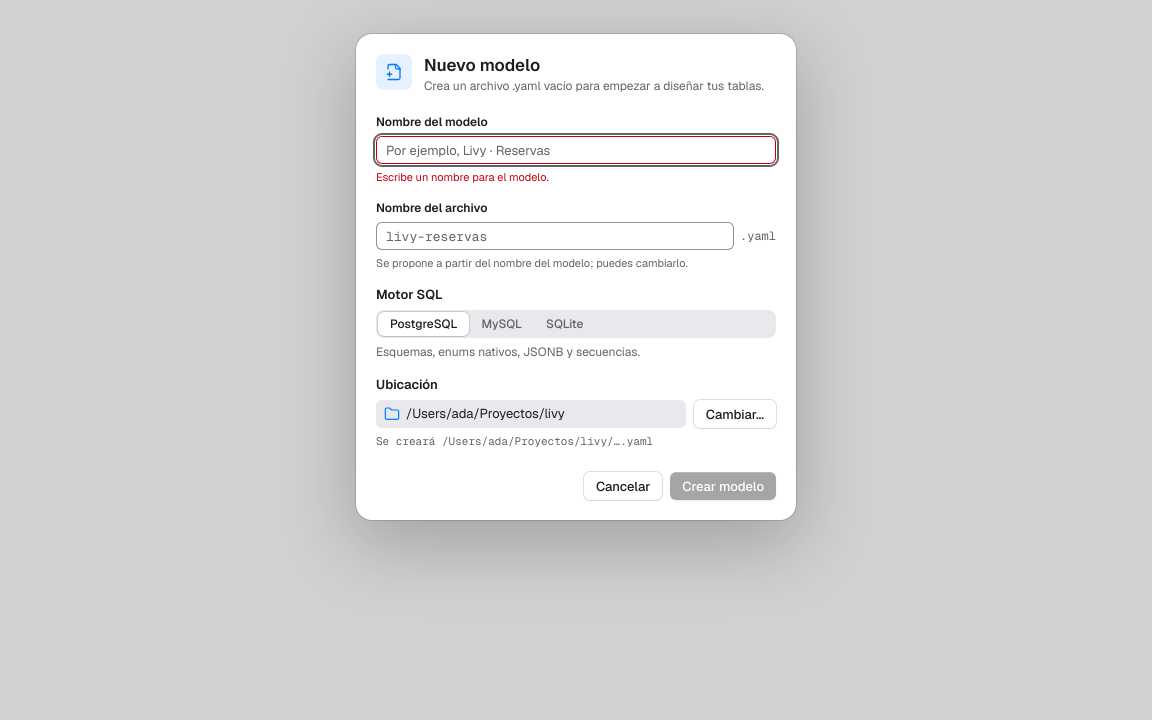
it: Nuevo modelo (FR-002 a FR-006) › con un archivo que ya existe en la carpeta pide otro nombre y no deja crear
In the field labelled "Nombre del modelo": (576, 150) [384,136,768,164], type "Livy · Reservas"
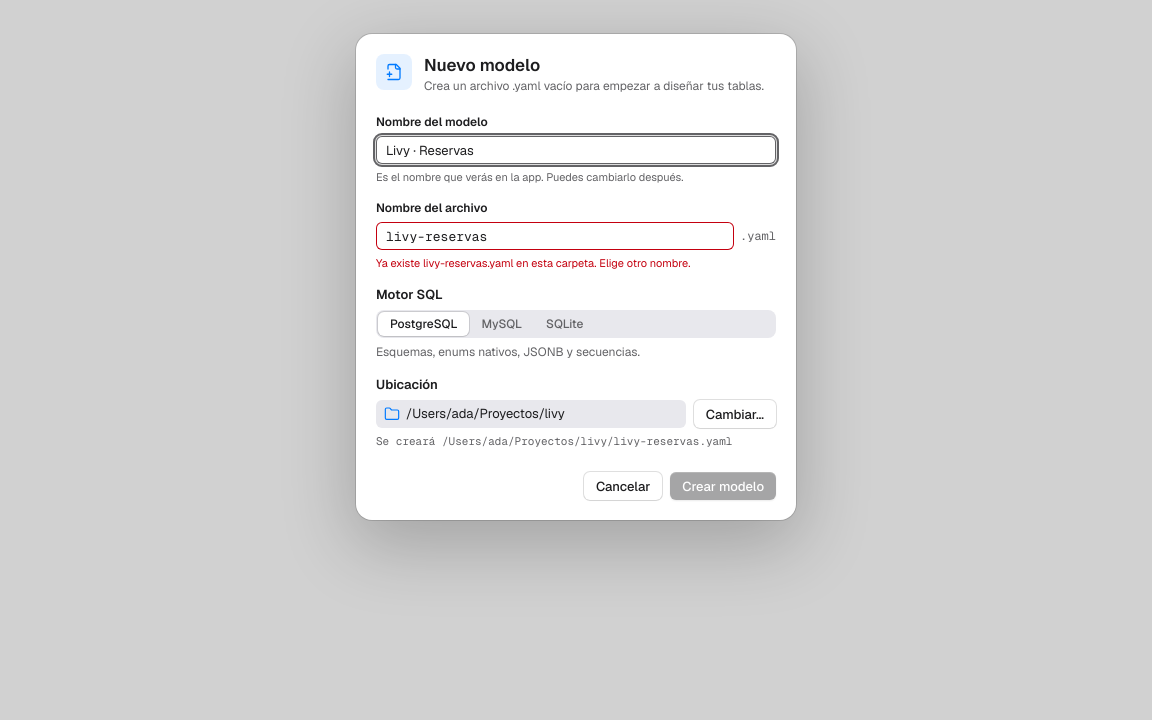
Expected: the button "Crear modelo" is disabled, [670,472,776,500]
Expected: the message reads "Ya existe livy-reservas.yaml en esta carpeta. Elige otro nombre.", [376,256,690,270]
